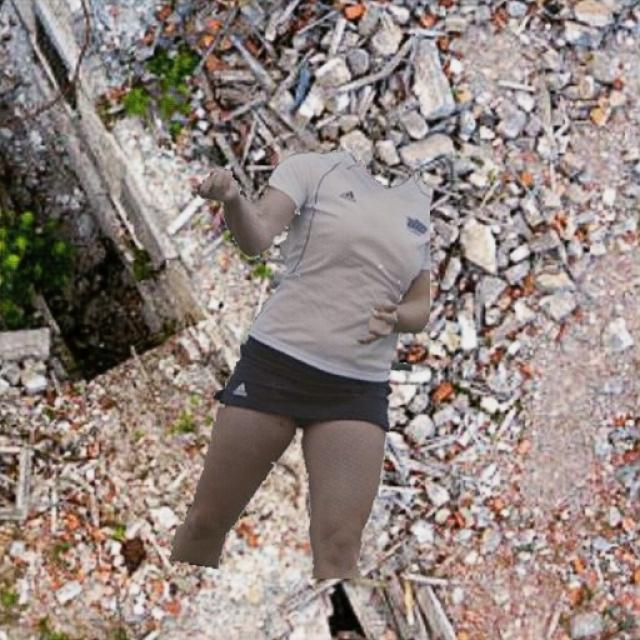Person in Rubble: (170, 148, 429, 578)
